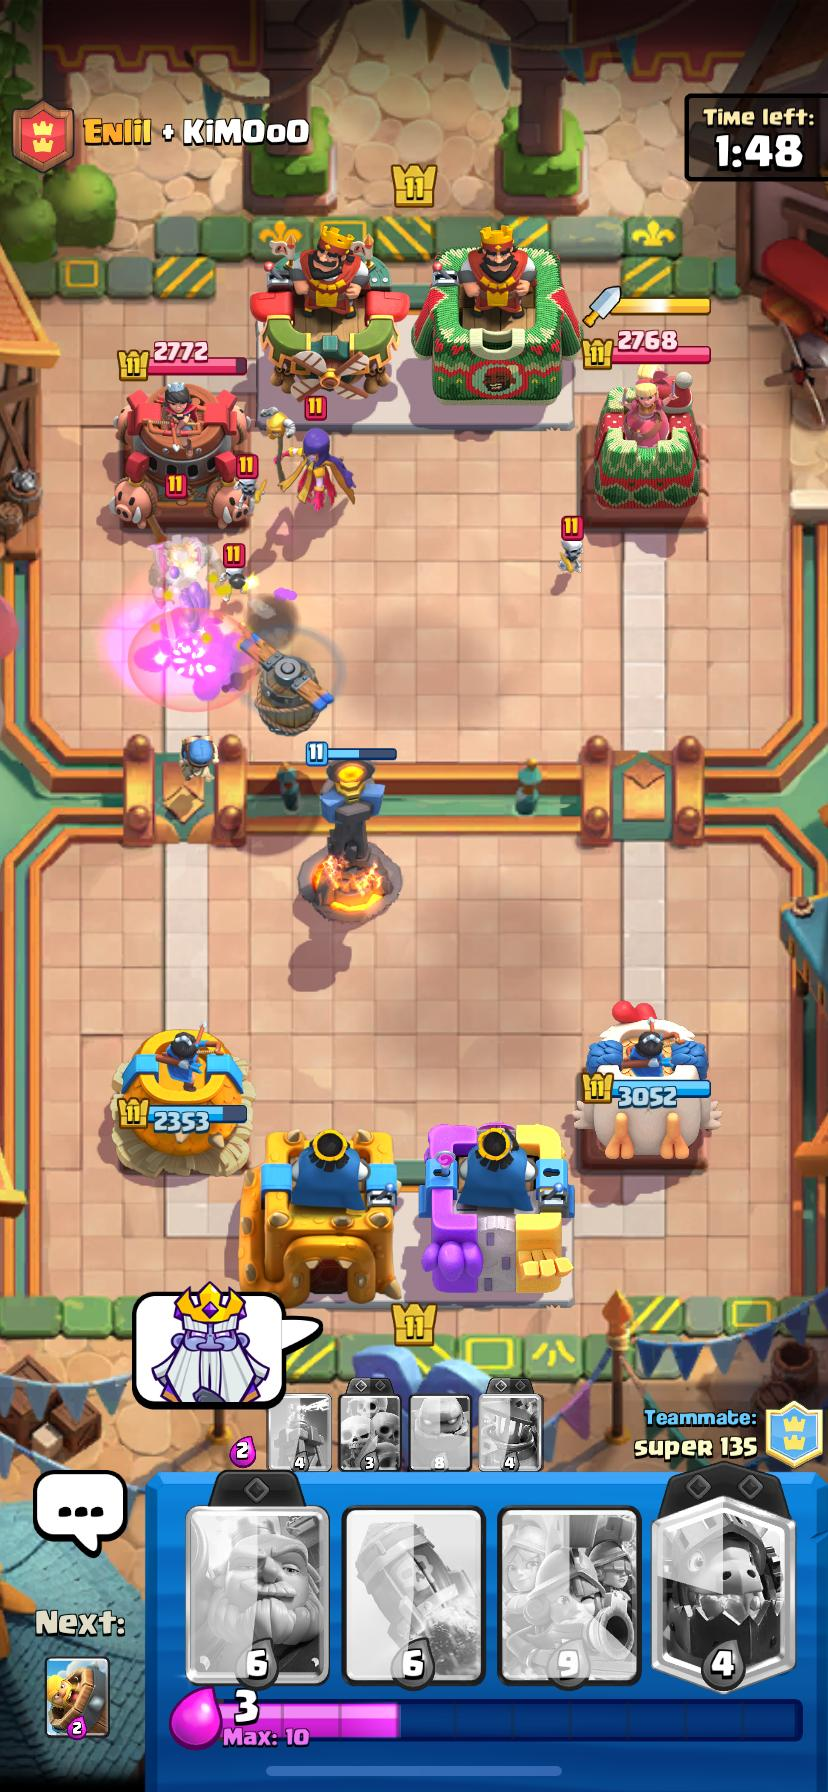EKingTower: (412, 226, 579, 405), (250, 225, 408, 399)
ELarry: (234, 453, 261, 515), (559, 515, 583, 575), (221, 542, 245, 591)
EWitch: (274, 421, 355, 510)
EnemyDagTower: (588, 366, 700, 522)
EnemyPrincessTower: (112, 386, 257, 528)
OBomber: (180, 737, 214, 779)
OFlyingMachine: (240, 635, 333, 736)
OInfernoTower: (298, 749, 401, 923)
OwnKingTower: (240, 1128, 401, 1306), (419, 1123, 573, 1299)
OwnPrincessTower: (576, 1002, 710, 1167), (113, 1026, 253, 1175)
